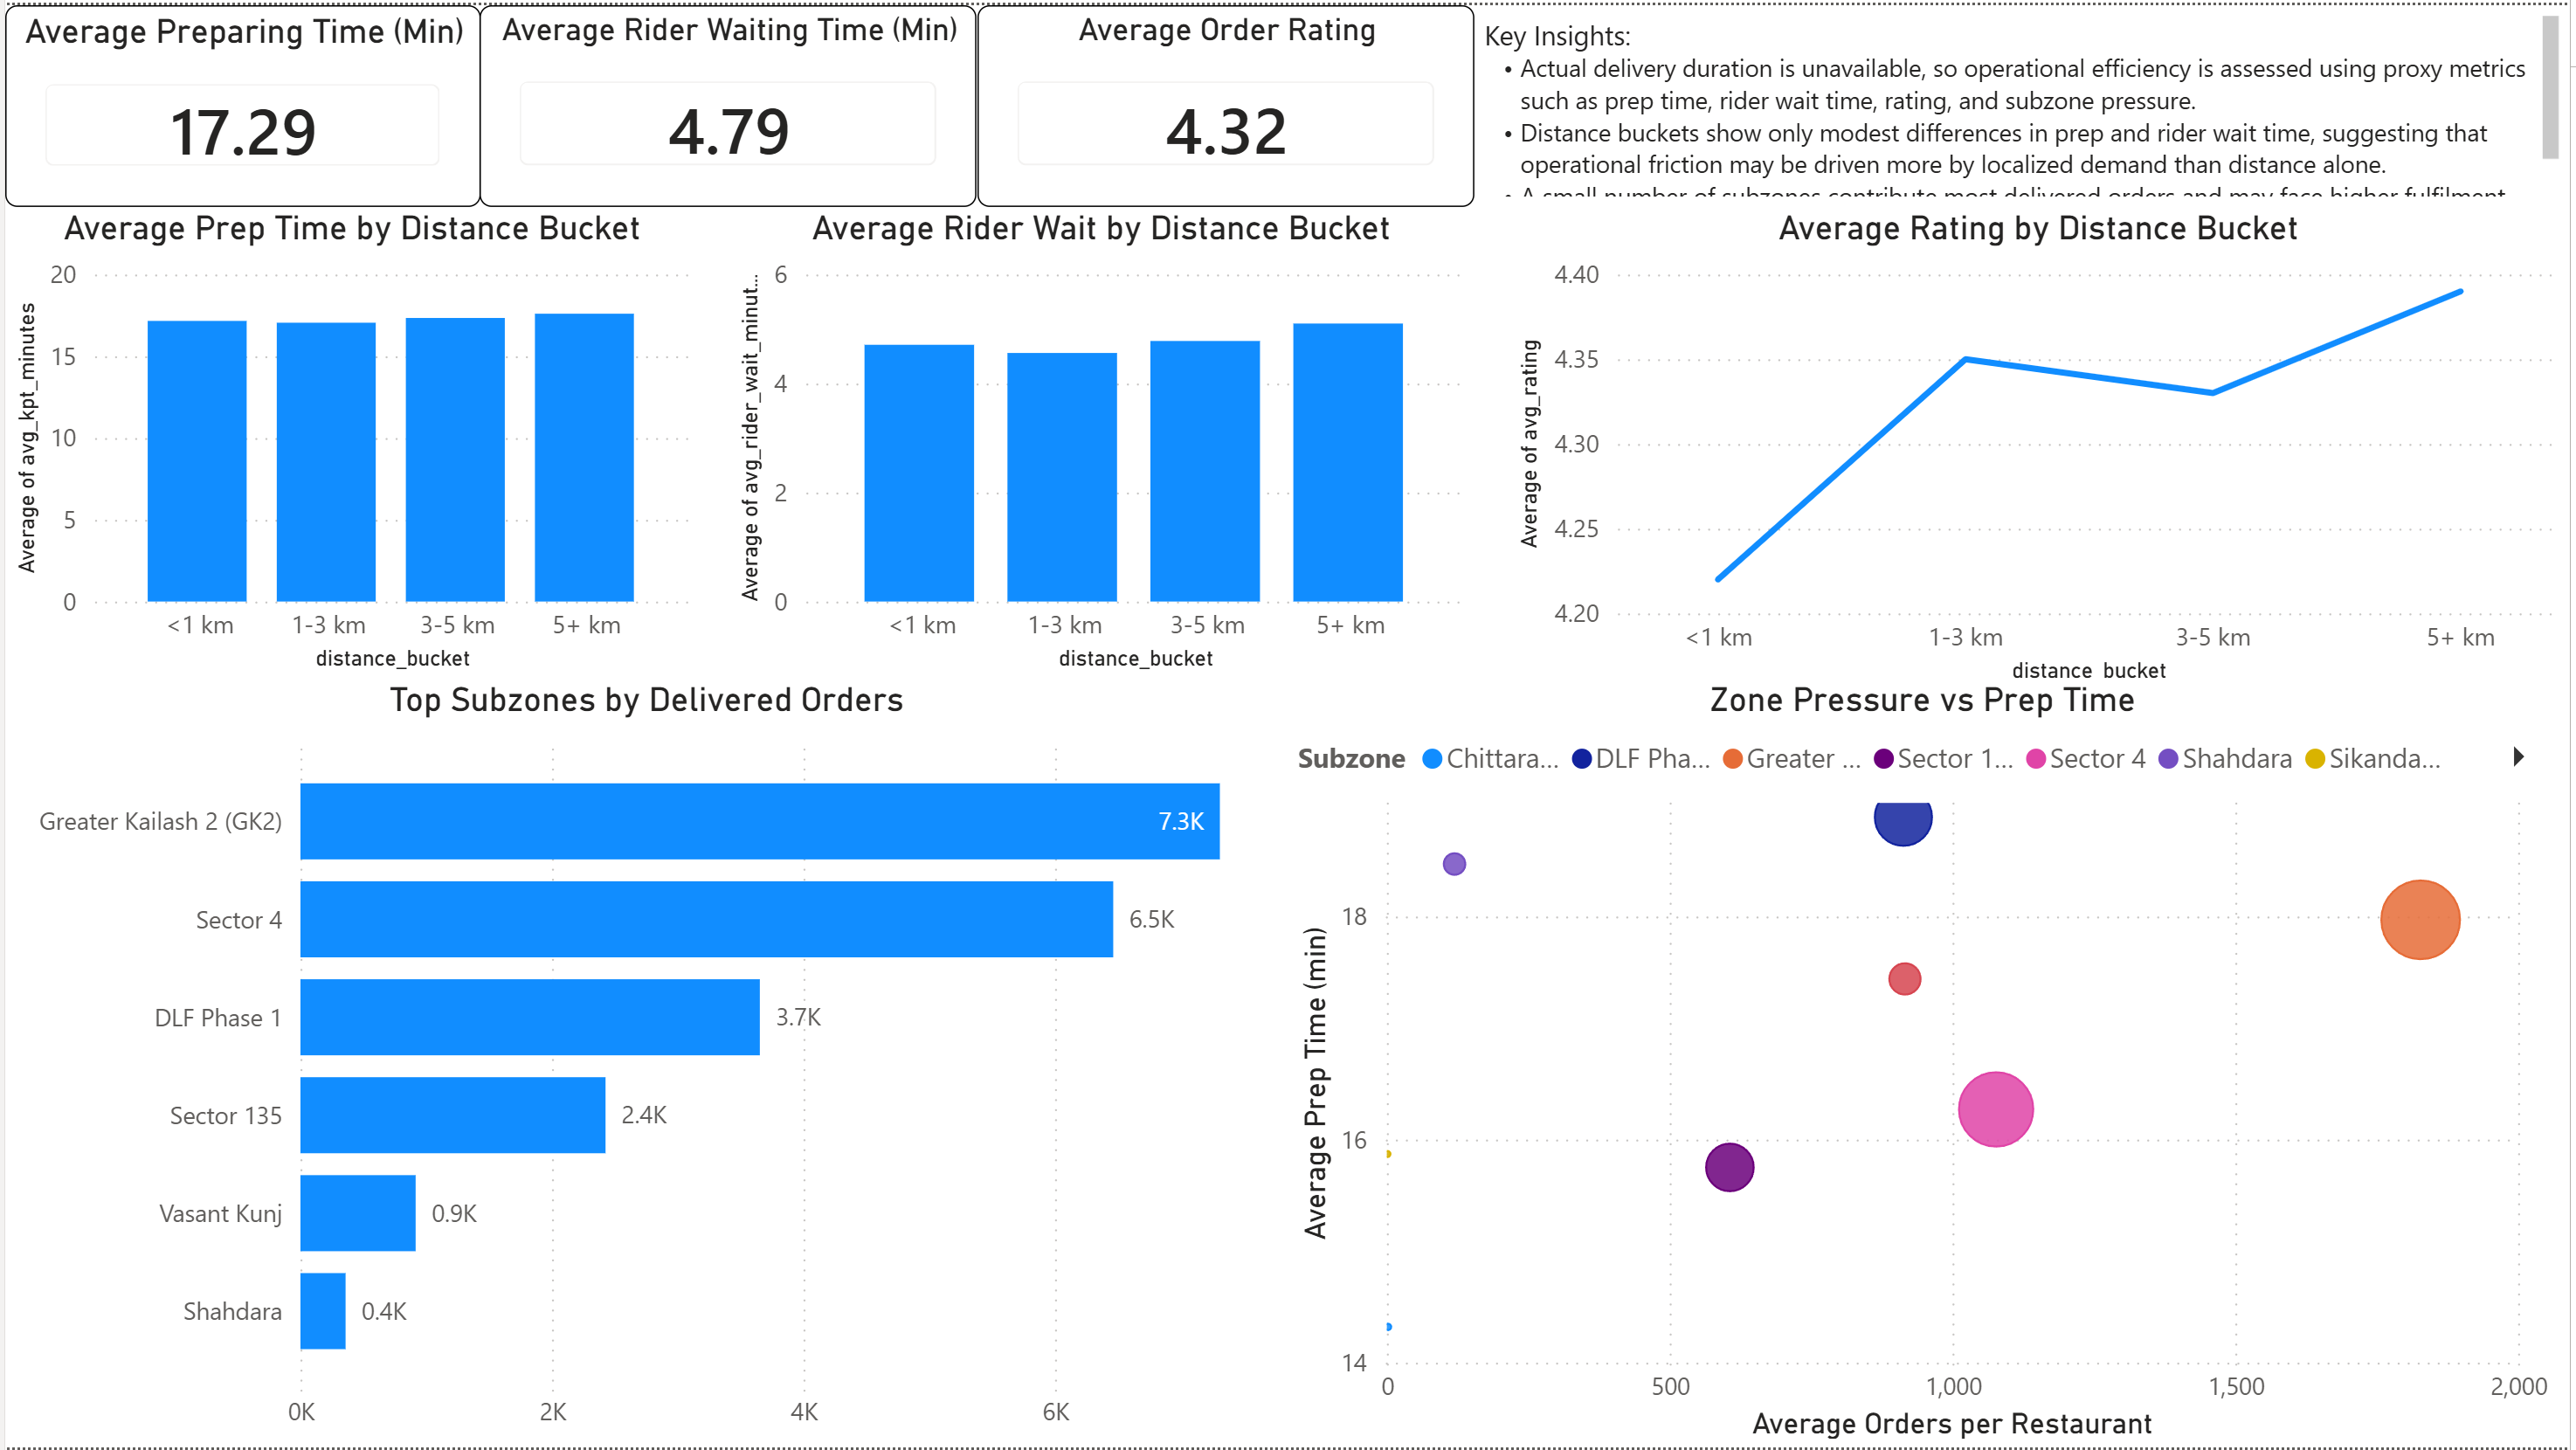

The page's visual inventory and layout, read from the dashboard file:
{"tool":"powerbi","page":{"name":"Operational Delivery Efficiency","canvas":[1280,720],"ordinal":4},"visuals":[{"type":"textbox","box":[733.3,0,546.5,100.4],"z":0},{"type":"cardVisual","title":"Average Preparing Time (Min)","fields":{"Data":["Avg(DeliveryEfficiency.avg_kpt_minutes)"]},"box":[0,0,237,100.4],"z":1000},{"type":"cardVisual","title":"Average Rider Waiting Time (Min)","fields":{"Data":["Avg(DeliveryEfficiency.avg_rider_wait_minutes)"]},"box":[237,0,248.1,100.4],"z":2000},{"type":"cardVisual","title":"Average Order Rating","fields":{"Data":["Avg(DeliveryEfficiency.avg_rating)"]},"box":[485.2,0,248.1,100.4],"z":3000},{"type":"clusteredColumnChart","title":"Average Prep Time by Distance Bucket","fields":{"Category":["DeliveryEfficiency.distance_bucket"],"Y":["Avg(DeliveryEfficiency.avg_kpt_minutes)"]},"box":[0,100.4,346.3,235.6],"z":4000},{"type":"clusteredColumnChart","title":"Average Rider Wait by Distance Bucket","fields":{"Category":["DeliveryEfficiency.distance_bucket"],"Y":["Avg(DeliveryEfficiency.avg_rider_wait_minutes)"]},"box":[361.1,100.4,372.2,235.6],"z":5000},{"type":"lineChart","title":"Average Rating by Distance Bucket","fields":{"Y":["Avg(DeliveryEfficiency.avg_rating)"],"Category":["DeliveryEfficiency.distance_bucket"]},"box":[750.3,100.4,529.5,241.5],"z":5001},{"type":"clusteredBarChart","title":"Top Subzones by Delivered Orders","fields":{"Y":["Sum(DeliveryTraffic.delivered_orders)"],"Category":["DeliveryTraffic.Subzone"]},"box":[0,336,640.2,384],"z":5002},{"type":"scatterChart","title":"Zone Pressure vs Prep Time","fields":{"X":["Avg(DeliveryTraffic.avg_orders_per_restaurant)"],"Y":["DeliveryTraffic.avg_kpt_minutes"],"Size":["Sum(DeliveryTraffic.delivered_orders)"],"Series":["DeliveryTraffic.Subzone"]},"box":[640.2,336,633.6,384],"z":5003}]}

Visuals, with their boxes in screenshot pixels (x1, y1, x2, y2), scaled from the page's 1280x720 canvas onto the 2576x1450 screenshot:
textbox: pyautogui.locateOnScreen(1475, 0, 2575, 202)
"Average Preparing Time (Min)" cardVisual: pyautogui.locateOnScreen(0, 0, 477, 202)
"Average Rider Waiting Time (Min)" cardVisual: pyautogui.locateOnScreen(477, 0, 977, 202)
"Average Order Rating" cardVisual: pyautogui.locateOnScreen(977, 0, 1475, 202)
"Average Prep Time by Distance Bucket" clusteredColumnChart: pyautogui.locateOnScreen(0, 202, 697, 677)
"Average Rider Wait by Distance Bucket" clusteredColumnChart: pyautogui.locateOnScreen(727, 202, 1475, 677)
"Average Rating by Distance Bucket" lineChart: pyautogui.locateOnScreen(1510, 202, 2575, 688)
"Top Subzones by Delivered Orders" clusteredBarChart: pyautogui.locateOnScreen(0, 677, 1288, 1449)
"Zone Pressure vs Prep Time" scatterChart: pyautogui.locateOnScreen(1288, 677, 2564, 1449)
